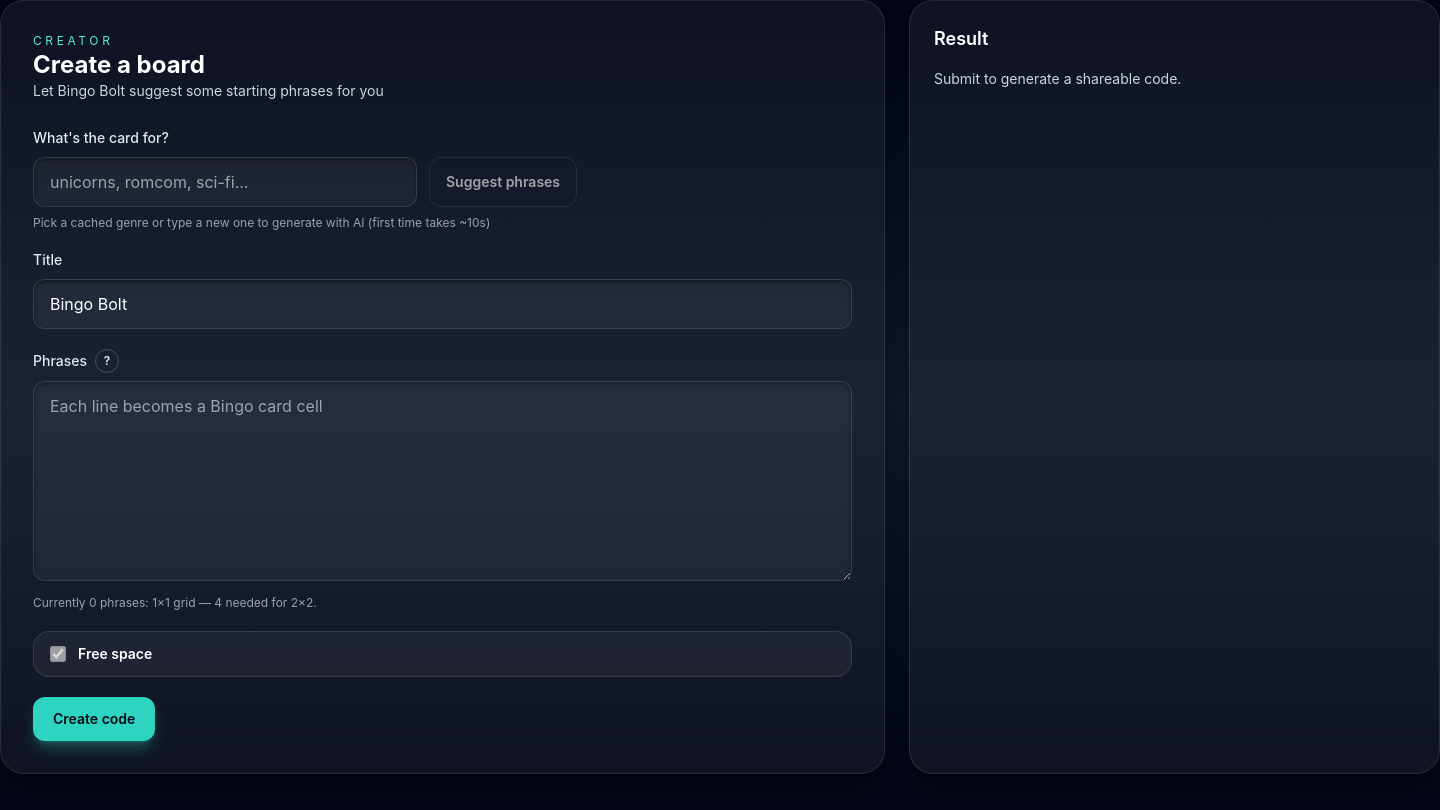
Test: CreatePage › shows warning when phrases exceed 65 characters
Type "This is a very long phrase that definitely exceeds the sixty-five character limit" into the text box labelled "Phrases" at (442, 481), box [33,381,852,581]
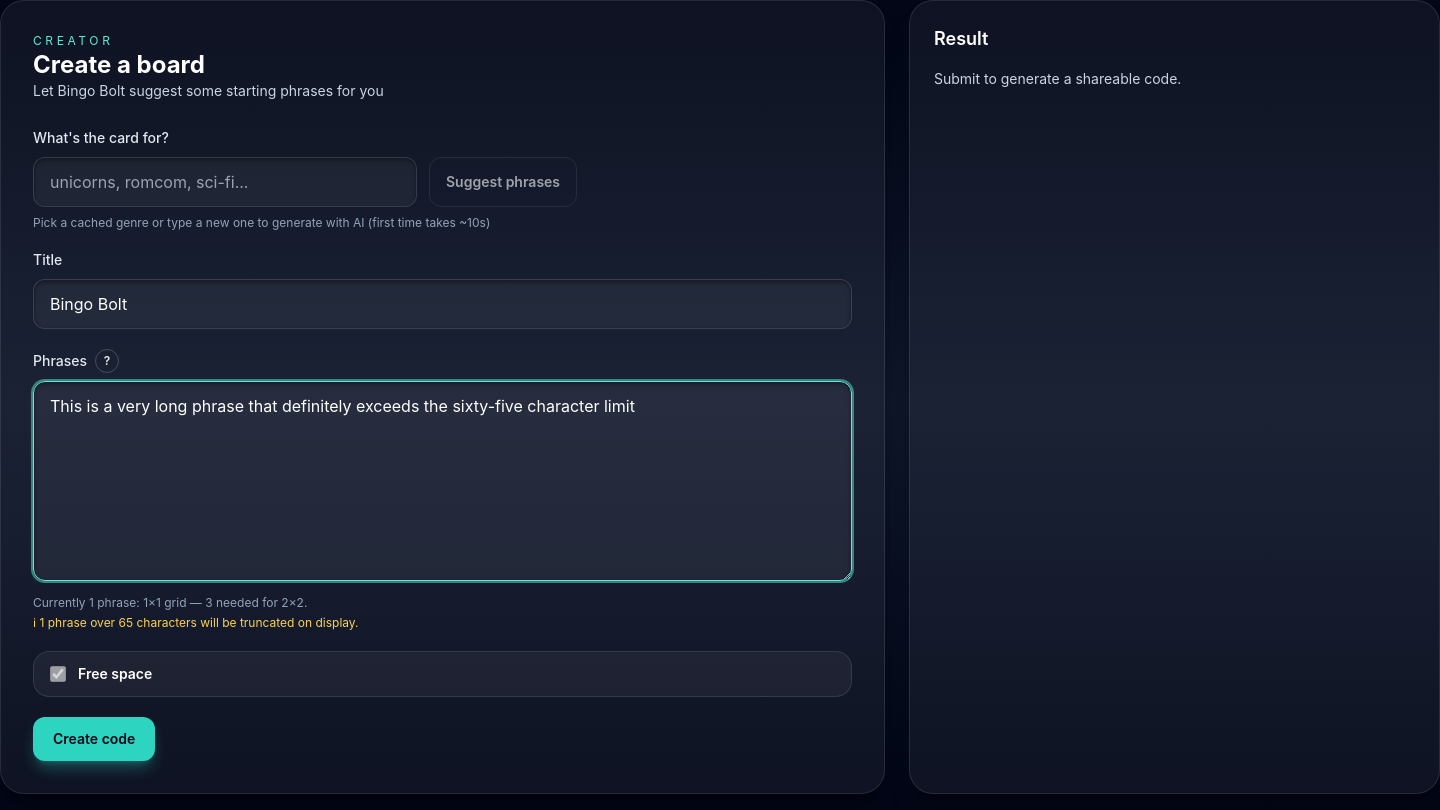
Expected: the text "ℹ 1 phrase over 65 characters will be truncated on display." is shown, [33,615,358,630]
